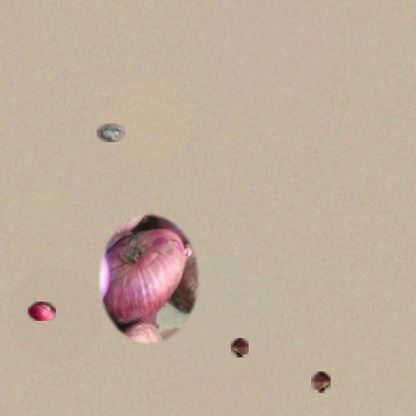healthy: (97, 211, 201, 347), (28, 301, 56, 321)
rotten: (97, 124, 125, 142)
sprouted: (311, 371, 331, 393), (231, 338, 249, 358)
